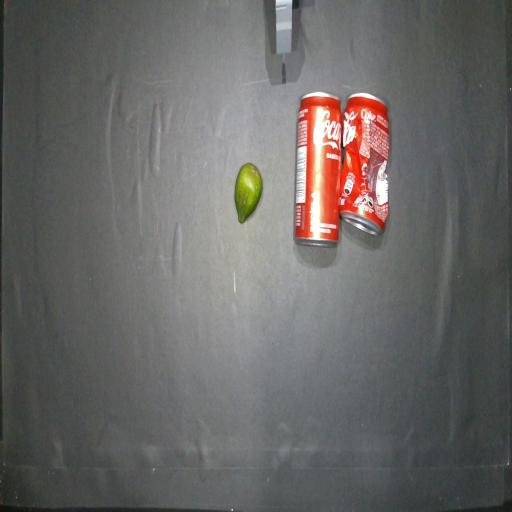higo: (234, 163, 262, 223)
lata: (294, 92, 342, 247)
lata_defectuoso: (338, 93, 389, 234)
